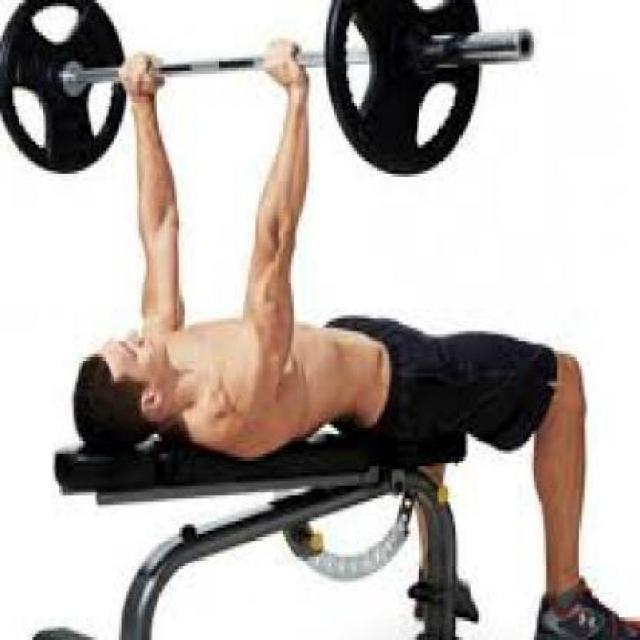Barbell: (508, 13, 542, 70)
